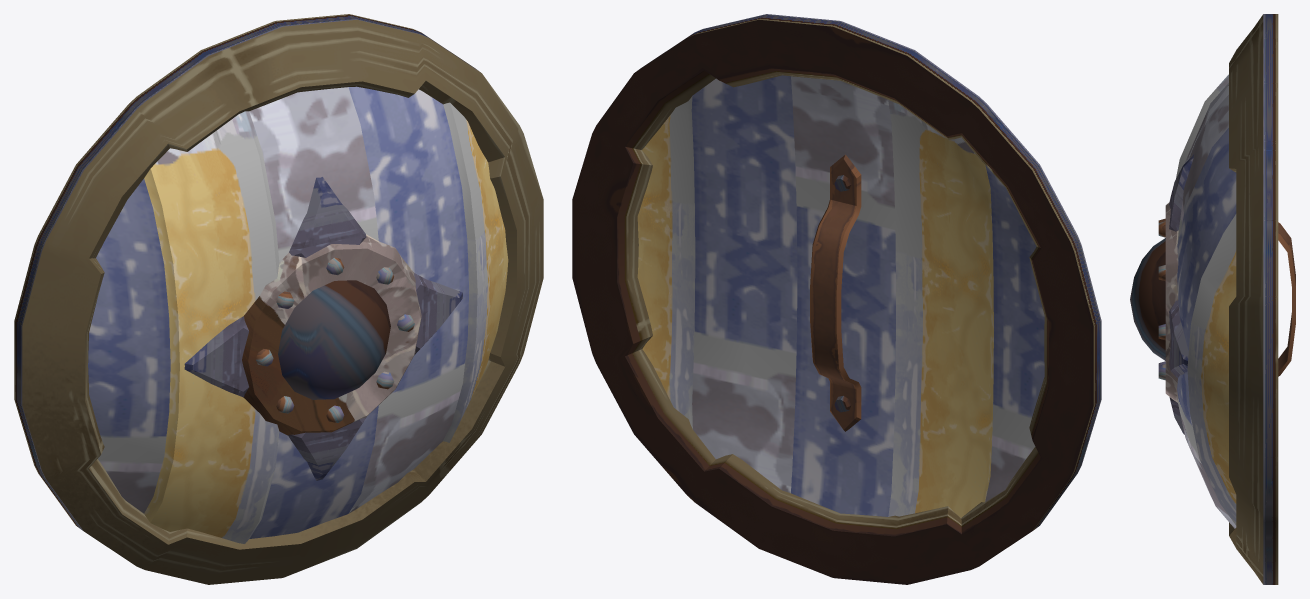
The model's file is Shield_Wooden.gltf.
3 views of the same model, side by side, from view 1: azimuth 30°, elevation 25°; view 2: azimuth 150°, elevation 25°; view 3: azimuth 270°, elevation 25° (orthographic). The views are drawn at different scales.
Parts seen in each view (by area): view 1: Shield_Wooden; view 2: Shield_Wooden; view 3: Shield_Wooden.
Boxes of the visible parts, box(x1,y1,x2,y2) form: Shield_Wooden: box(14, 14, 543, 584); Shield_Wooden: box(572, 14, 1101, 584); Shield_Wooden: box(1130, 14, 1295, 584).
Size of the model in its own units: 0.6146 by 0.6209 by 0.1788.
Materials: 3 (3 with a texture image).
